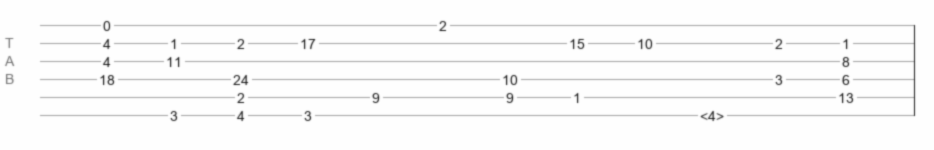0: (103, 18, 111, 28)
1: (170, 36, 178, 46), (573, 90, 581, 100), (842, 36, 850, 46)
10: (502, 72, 518, 82), (637, 36, 653, 46)
11: (166, 54, 182, 64)
13: (838, 90, 854, 100)
15: (569, 36, 585, 46)
17: (300, 36, 316, 46)
18: (99, 72, 115, 82)
2: (237, 90, 245, 100), (237, 36, 245, 46), (439, 18, 447, 28), (775, 36, 783, 46)
24: (233, 72, 249, 82)
3: (170, 108, 178, 118), (304, 108, 312, 118), (775, 72, 783, 82)
4: (103, 36, 111, 46), (103, 54, 111, 64), (237, 108, 245, 118)
6: (842, 72, 850, 82)
8: (842, 54, 850, 64)
9: (372, 90, 380, 100), (506, 90, 514, 100)
harmonic: (700, 108, 724, 118)
